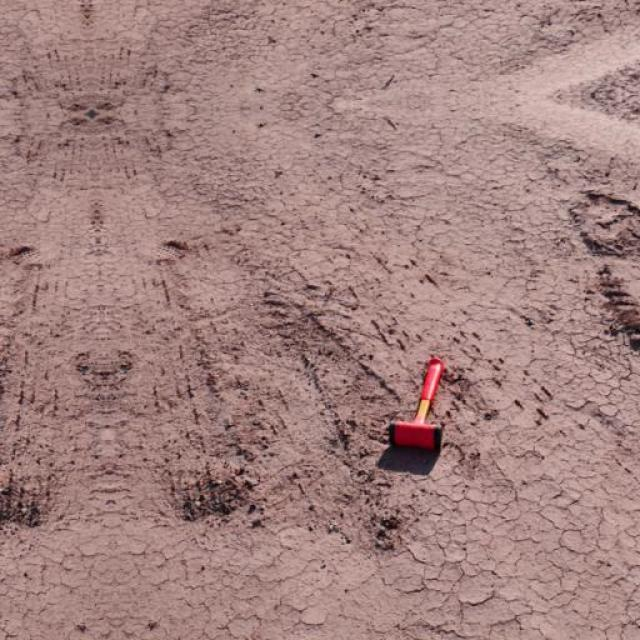mallet: (390, 354, 448, 451)
